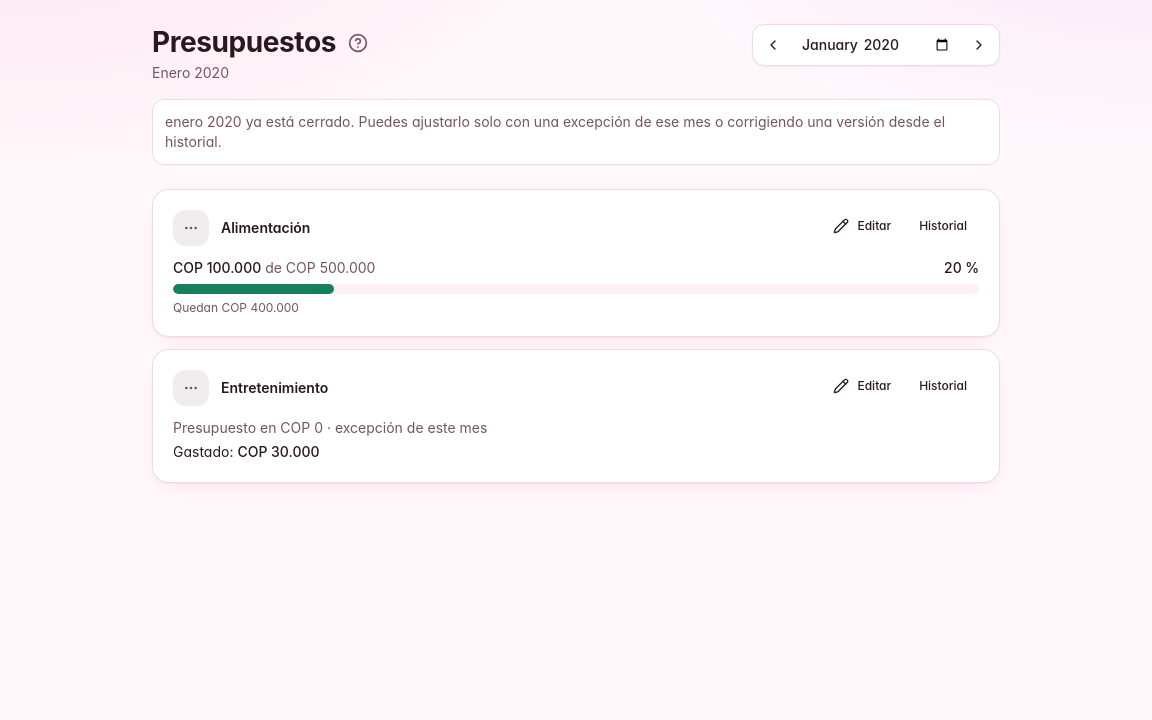
Scenario: Budgets — meses cerrados › avisa de que el mes ya pasó y solo permite excepciones
The width and height of the screenshot is (1152, 720).
Expected: the text "ya está cerrado" is shown, [165,113,945,150]
Click the button with aria-label "Editar presupuesto de Alimentación" at (862, 226), box [822,210,903,242]
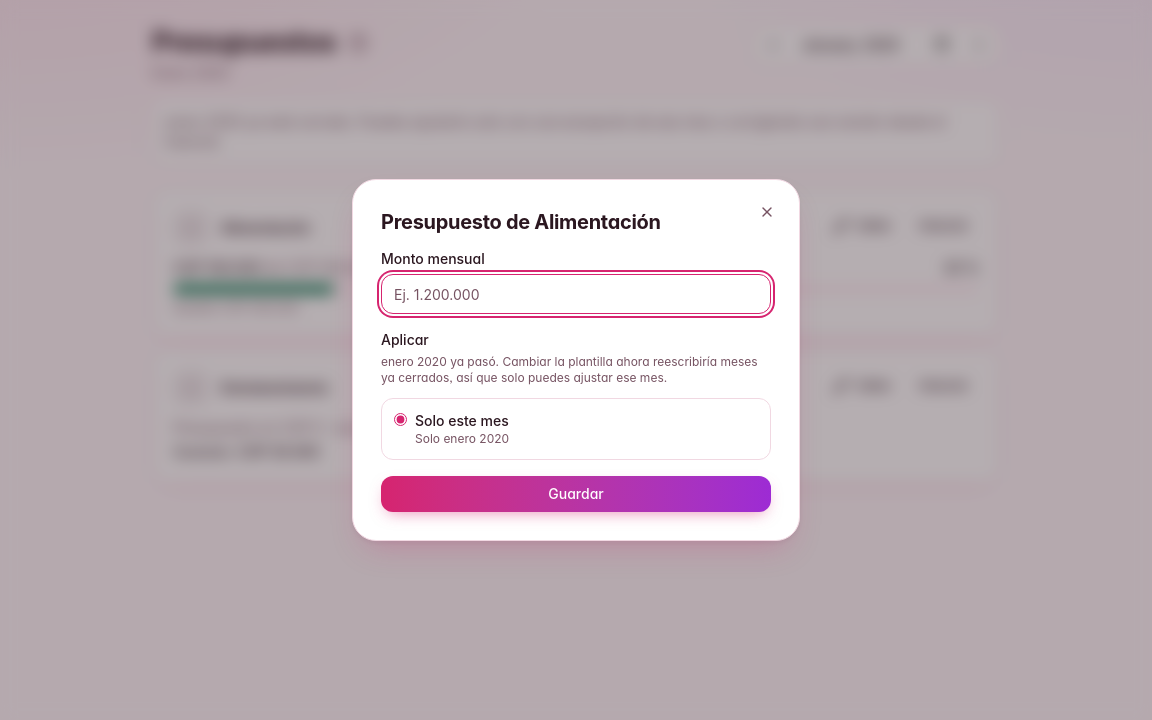
Expected: the radio button labelled "Solo este mes" is checked, [394,413,407,426]
